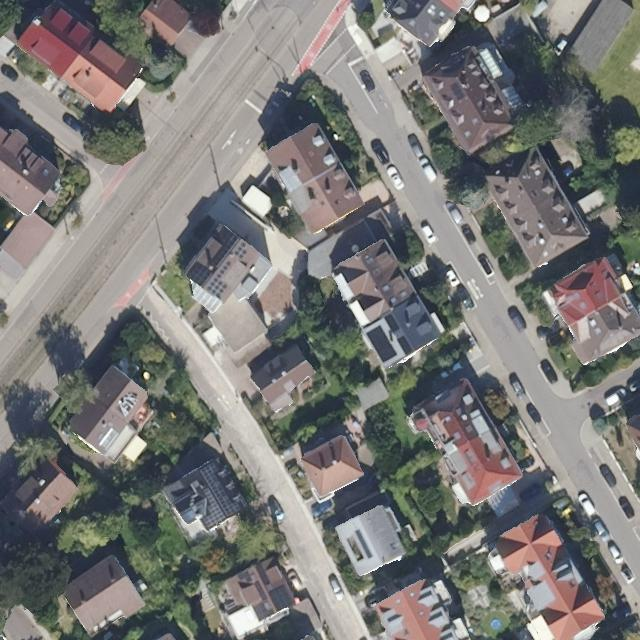PV: (189, 226, 241, 288), (198, 461, 242, 530), (205, 260, 233, 300), (250, 579, 276, 622), (267, 583, 295, 612), (354, 528, 375, 559), (254, 563, 272, 587), (233, 240, 249, 261), (237, 570, 254, 584)
